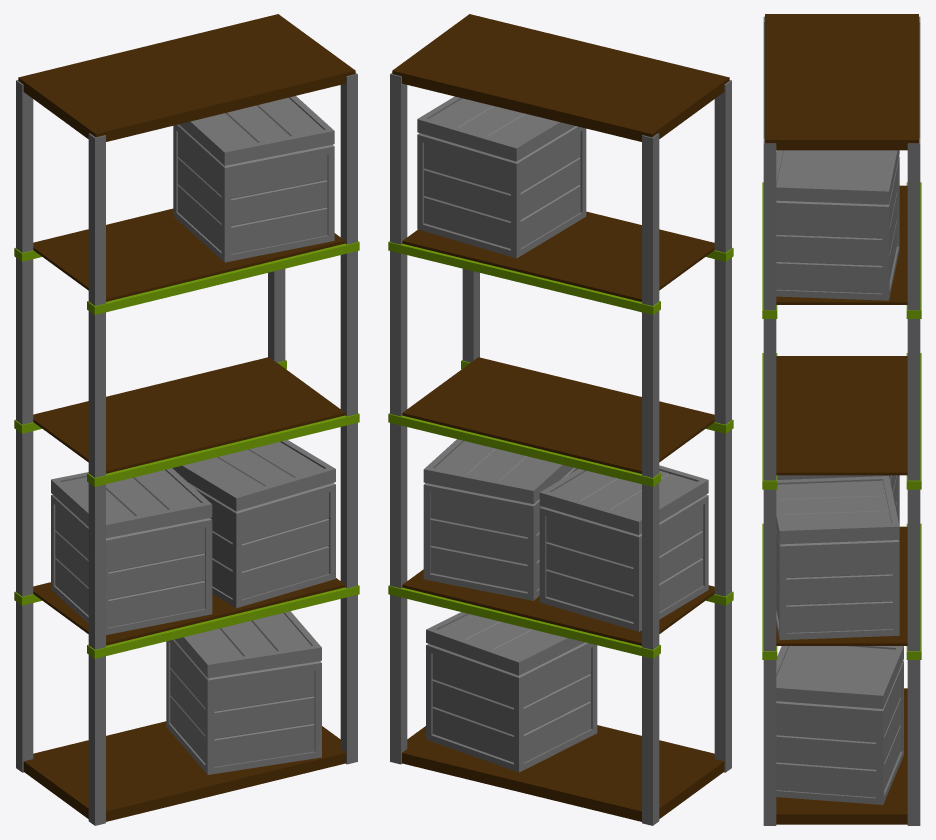
Rendered from RAFLAR-DEPOLAMA.fbx.
The picture shows the model from 3 angles, left to right: view 1: azimuth 30°, elevation 25°; view 2: azimuth 150°, elevation 25°; view 3: azimuth 270°, elevation 25°; orthographic projection.
Visible parts, largest first — view 1: Box030, TASINABILIR-KUTU004, TASINABILIR-KUTU001, TASINABILIR-KUTU003, TASINABILIR-KUTU002, RAF-DECORATIF; view 2: Box030, TASINABILIR-KUTU004, TASINABILIR-KUTU001, TASINABILIR-KUTU003, TASINABILIR-KUTU002, RAF-DECORATIF; view 3: Box030, TASINABILIR-KUTU002, TASINABILIR-KUTU001, TASINABILIR-KUTU004, RAF-DECORATIF, TASINABILIR-KUTU003.
Part boxes in pixels (left/top/right/bottom): Box030: left=16, top=14, right=357, bottom=825; TASINABILIR-KUTU004: left=173, top=96, right=334, bottom=262; TASINABILIR-KUTU001: left=166, top=611, right=321, bottom=774; TASINABILIR-KUTU003: left=51, top=468, right=212, bottom=634; TASINABILIR-KUTU002: left=172, top=440, right=335, bottom=608; RAF-DECORATIF: left=14, top=241, right=359, bottom=658; Box030: left=390, top=14, right=731, bottom=825; TASINABILIR-KUTU004: left=417, top=96, right=586, bottom=258; TASINABILIR-KUTU001: left=426, top=612, right=597, bottom=772; TASINABILIR-KUTU003: left=539, top=465, right=708, bottom=631; TASINABILIR-KUTU002: left=423, top=439, right=578, bottom=600; RAF-DECORATIF: left=388, top=241, right=733, bottom=658; Box030: left=763, top=14, right=920, bottom=825; TASINABILIR-KUTU002: left=776, top=476, right=899, bottom=640; TASINABILIR-KUTU001: left=776, top=646, right=903, bottom=804; TASINABILIR-KUTU004: left=776, top=150, right=899, bottom=300; RAF-DECORATIF: left=762, top=182, right=921, bottom=659; TASINABILIR-KUTU003: left=777, top=475, right=899, bottom=525.
Size of the model in its own units: 101 by 251 by 52.95.
